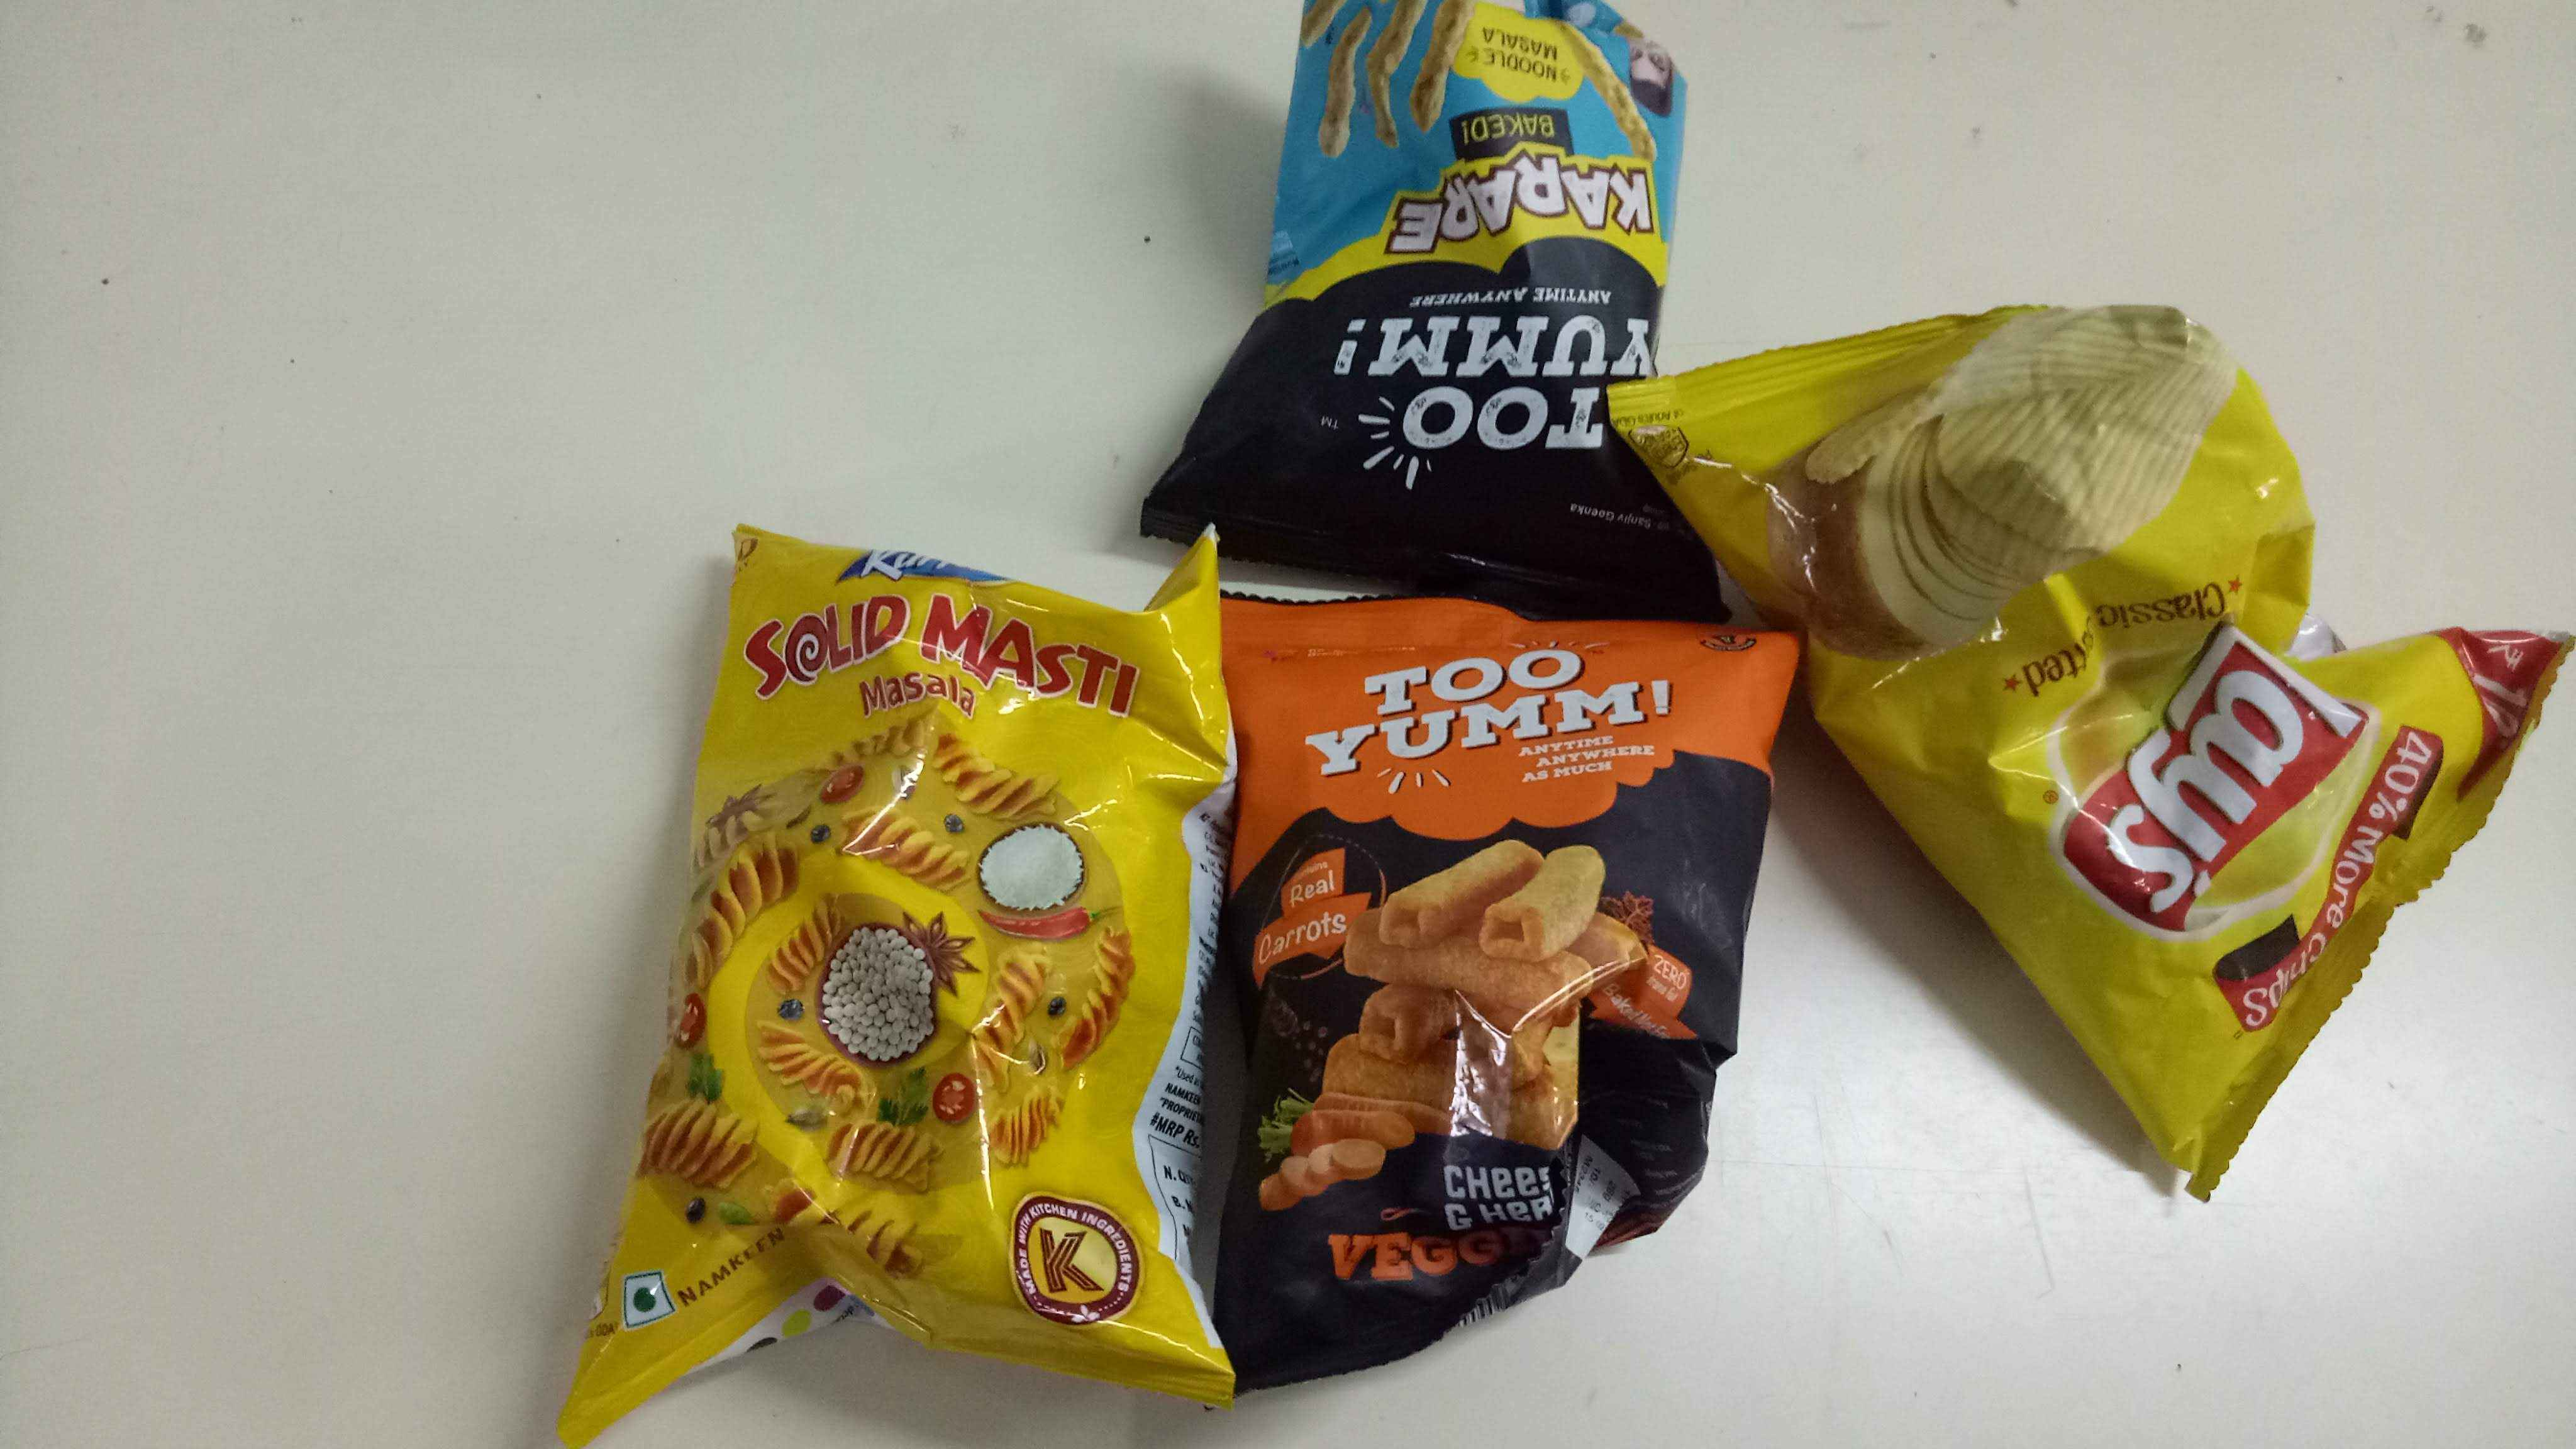Lays: (2045, 639, 2369, 977)
kurkure: (830, 538, 1012, 621)
tooyumm: (1306, 635, 1690, 816), (1318, 295, 1668, 469)
